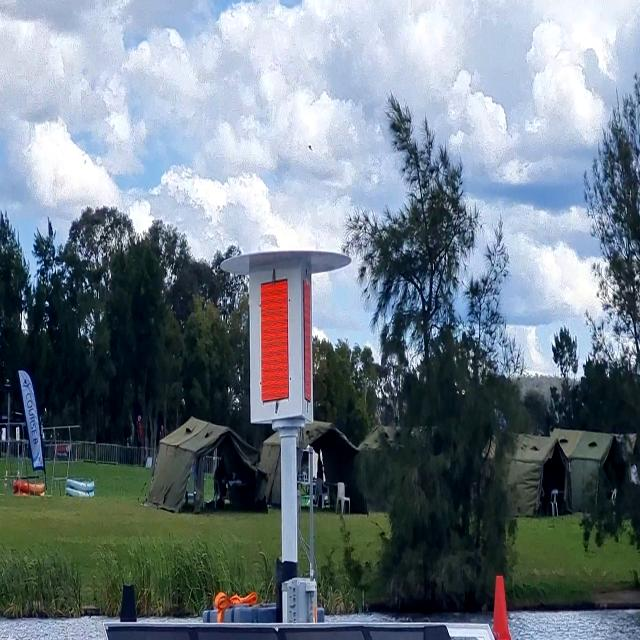led: (253, 272, 298, 411)
